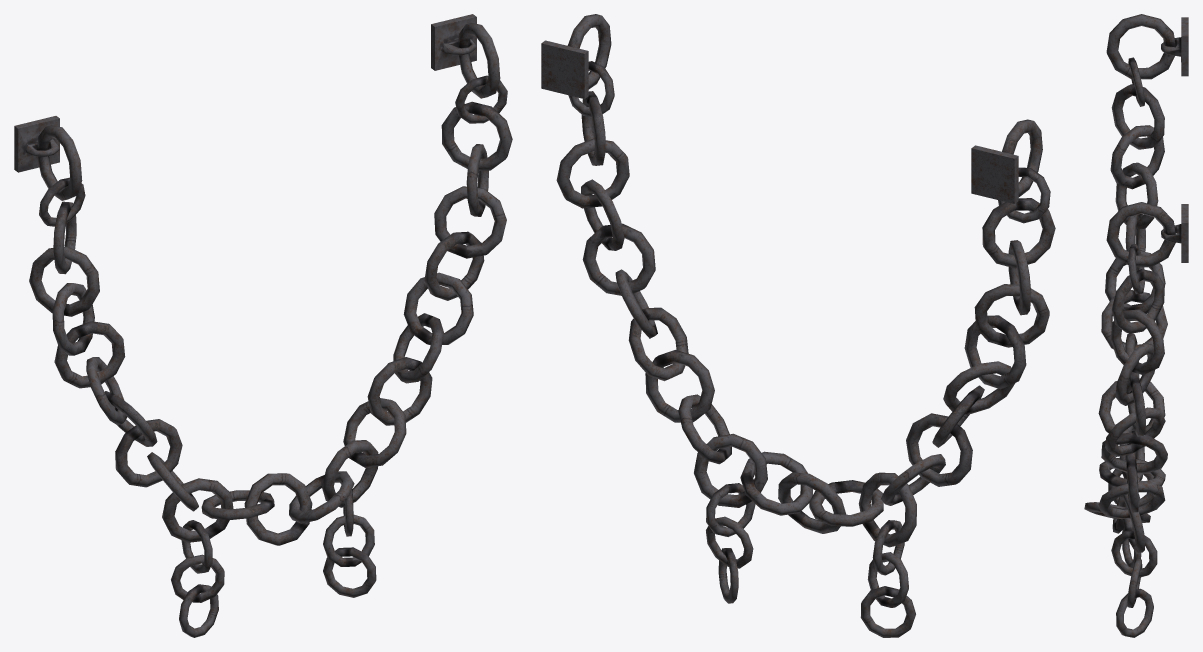
Rendered from Castle Wall Ring Chain 05.fbx.
The picture shows the model from 3 angles, left to right: view 1: azimuth 30°, elevation 25°; view 2: azimuth 150°, elevation 25°; view 3: azimuth 270°, elevation 25°; orthographic projection. The views are drawn at different scales.
Parts seen in each view (by area): view 1: Cube; view 2: Cube; view 3: Cube.
Part boxes in pixels (left/top/right/bottom): Cube: left=14, top=14, right=512, bottom=637; Cube: left=541, top=14, right=1055, bottom=637; Cube: left=1084, top=14, right=1188, bottom=637.
Bounding box in the file's own units: 137 × 150 × 28.87.
